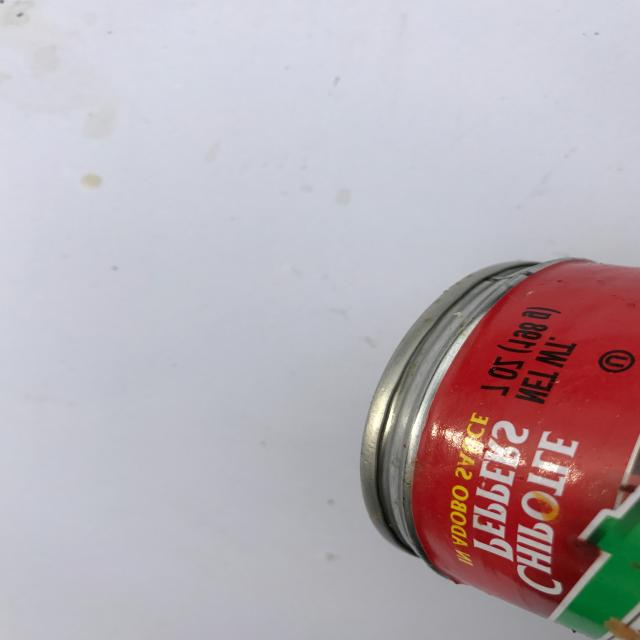metal: (358, 255, 640, 640)
